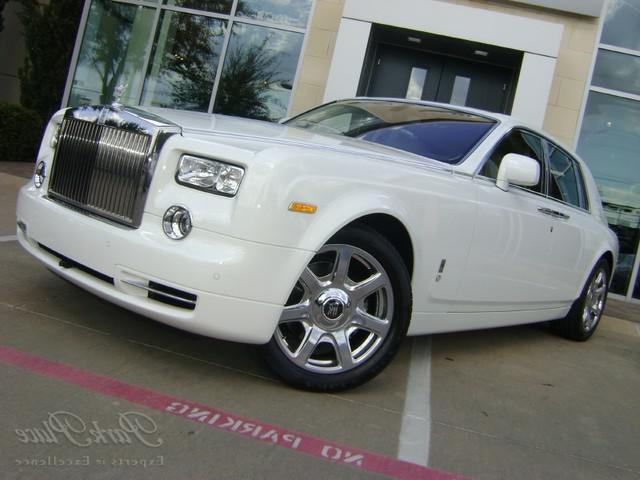Car: (3, 69, 636, 412)
